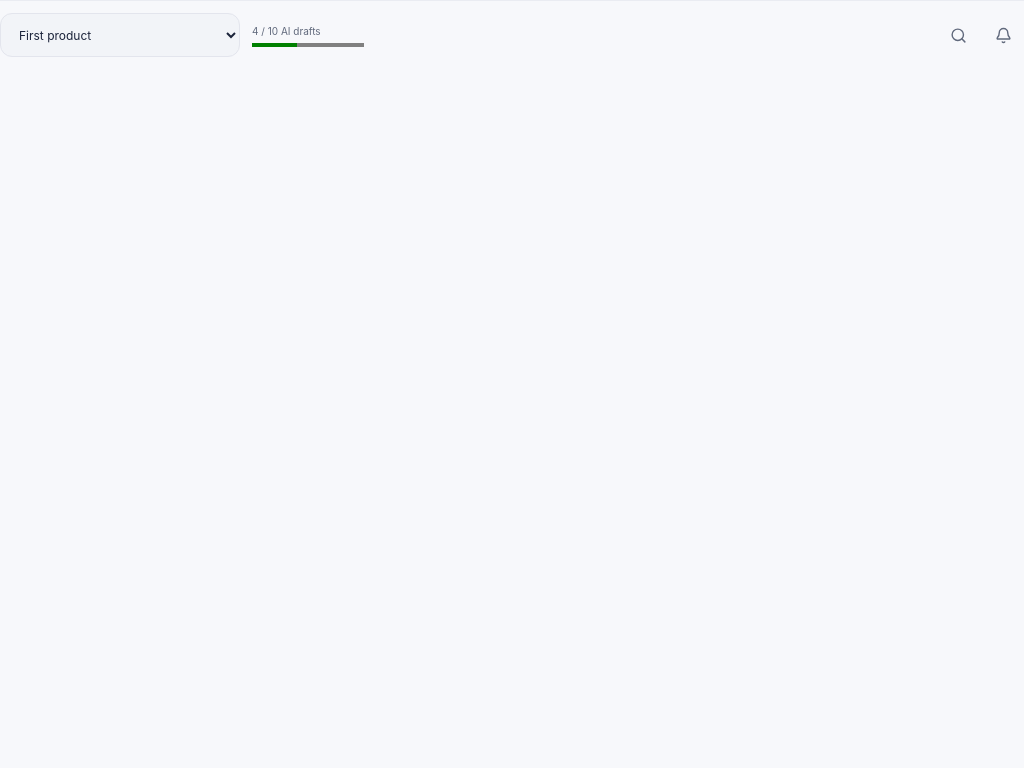
Test: workspace toolbar › offers keyboard page search with an explicit empty state
This screenshot has width=1024, height=768.
Type keys "{Control>}k{/Control}"
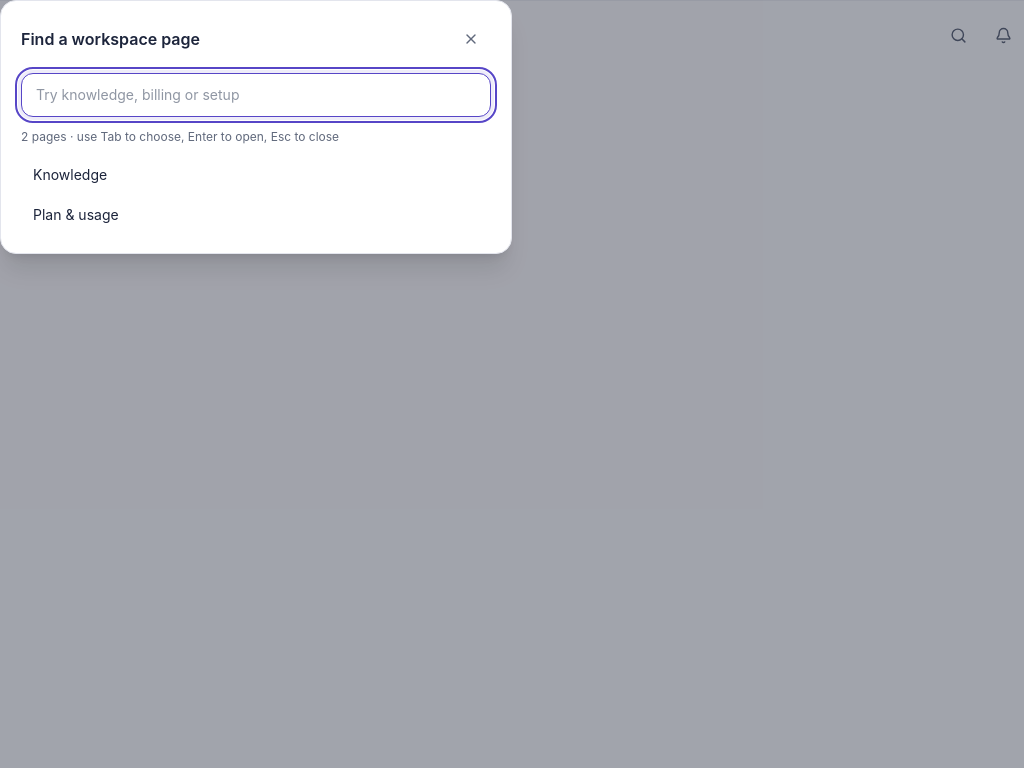
Now the dialog is shown, box [0,0,512,254]
Type "knowledge" into the search field named "Search pages" at (256, 95), box [21,73,491,117]
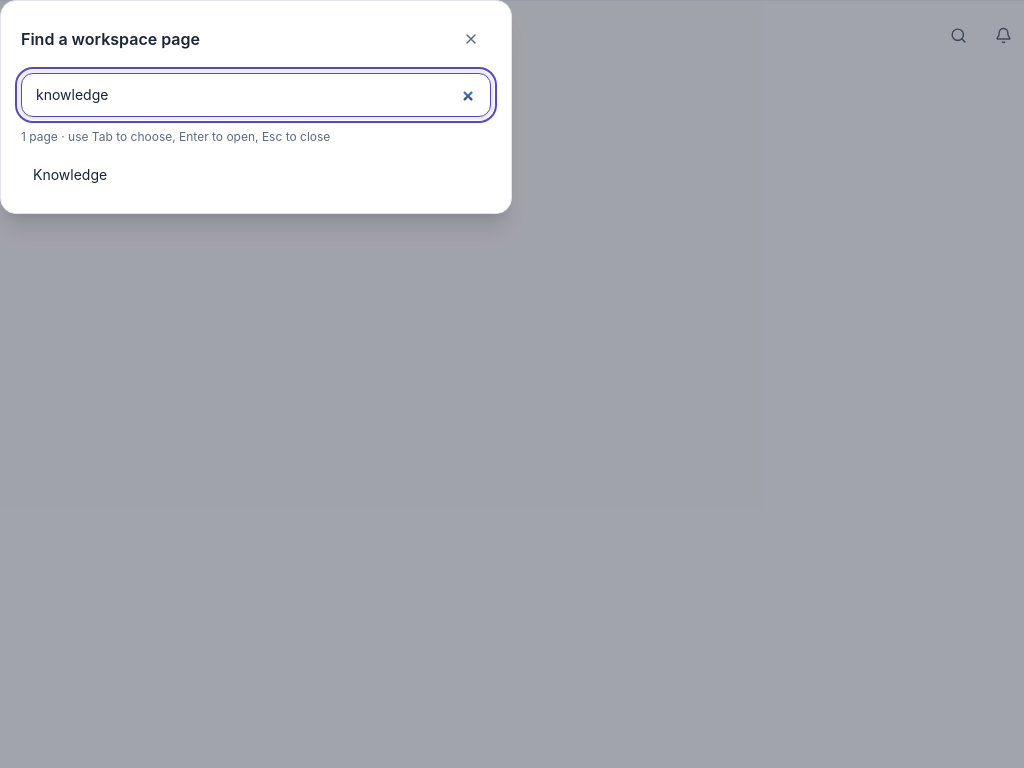
Replace the text in the search field named "Search pages" with "nothing matches" at (256, 95), box [21,73,491,117]
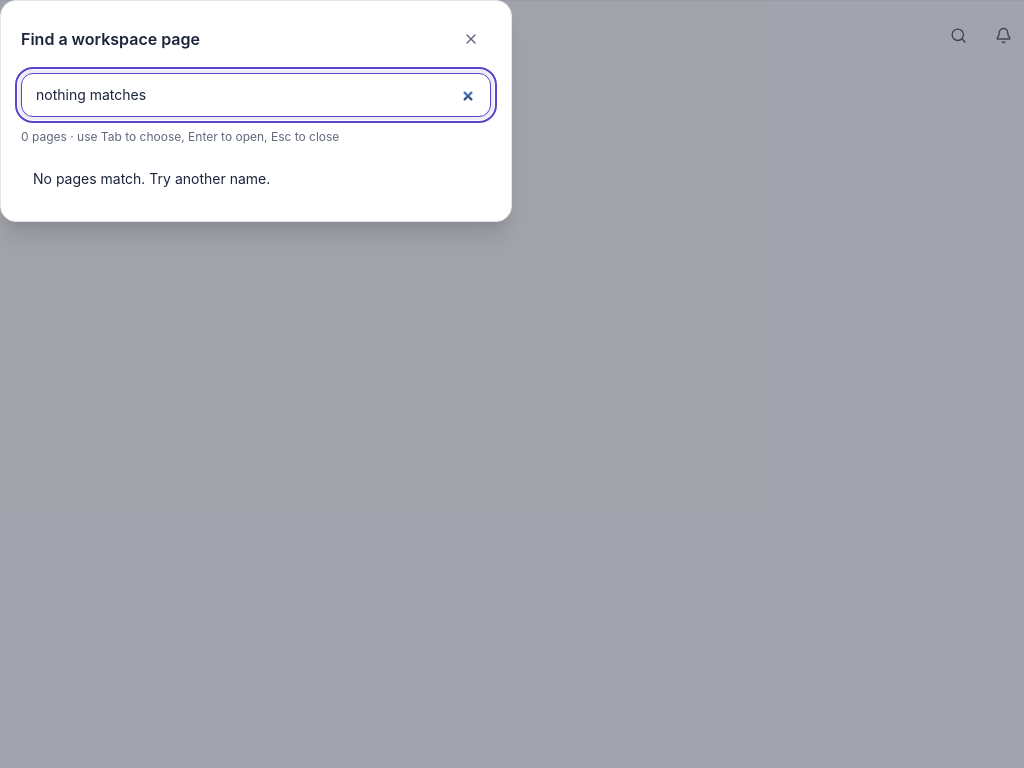
Now the text "No pages match. Try another name." is shown, box [33,170,270,187]
